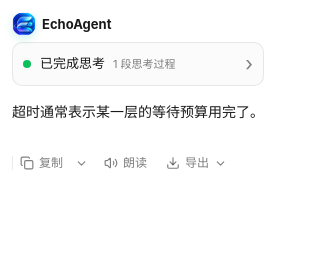
Test: assistant execution process › 将模型混在同一文本块的思考折叠，只直接显示答案
The width and height of the screenshot is (320, 262).
Expected: the text "超时通常表示某一层的等待预算用完了。" is shown, [12, 100, 264, 123]
Expected: the text "The user asks about a timeout." is not shown
What coordinates should you click on to do the following:
click the button "已完成思考 1 段思考过程 ›"
I would click on:
 (138, 64)
Its box is [13, 43, 263, 85].
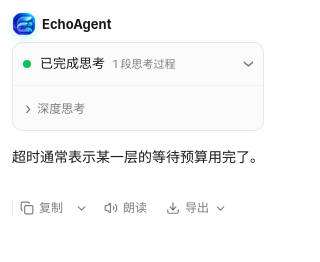
What coordinates should you click on to do the following:
click the heading "深度思考"
I would click on:
 (55, 108)
Its box is [25, 94, 85, 122].
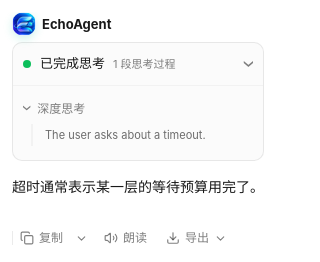
Expected: the text "The user asks about a timeout." is shown, [45, 128, 206, 142]
